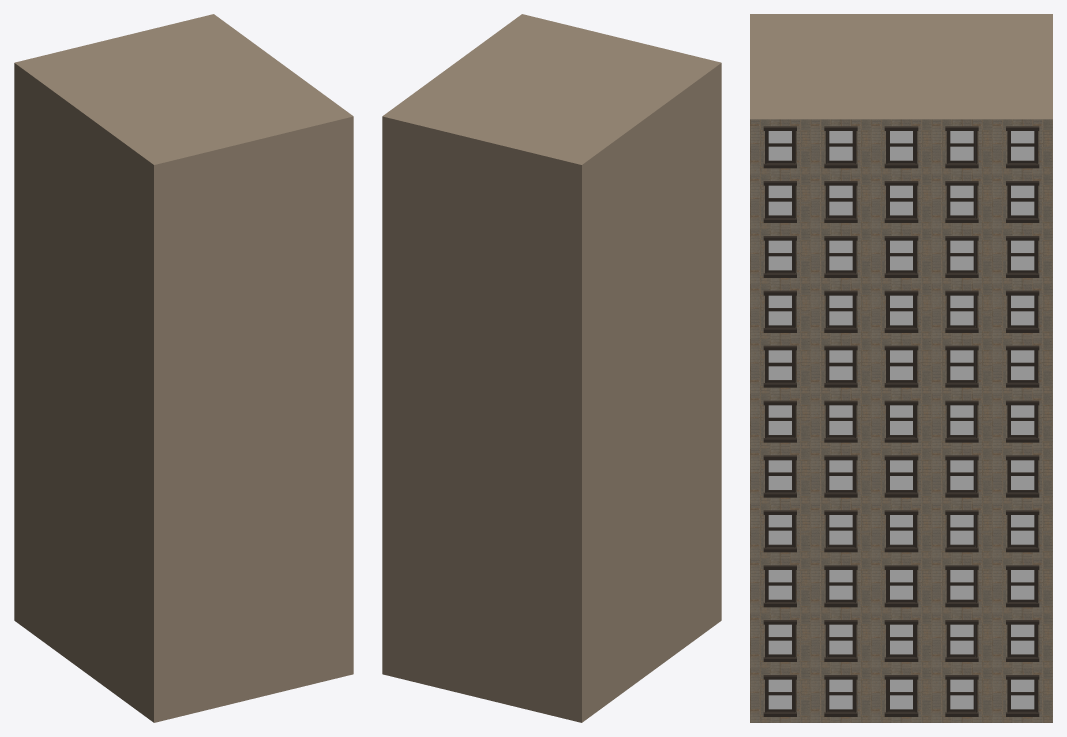
The model's file is TallBuilding.fbx.
3 renders of one model, left to right at view 1: azimuth 30°, elevation 25°; view 2: azimuth 150°, elevation 25°; view 3: azimuth 270°, elevation 25°, orthographic. The views are drawn at different scales.
Parts seen in each view (by area): view 1: Building3BeigeShort; view 2: Building3BeigeShort; view 3: Building3BeigeShort.
Boxes of the visible parts, x1,y1,x2,y2 form: Building3BeigeShort: [14, 14, 353, 722]; Building3BeigeShort: [382, 14, 721, 722]; Building3BeigeShort: [750, 14, 1052, 722].
Size of the model in its own units: 837 by 2200 by 1000.
